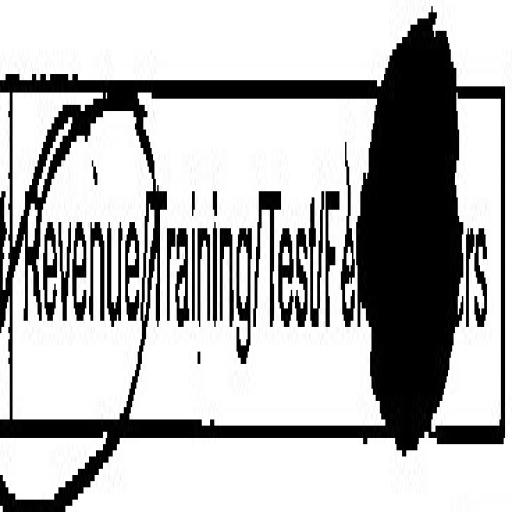check: (6, 0, 146, 512)
